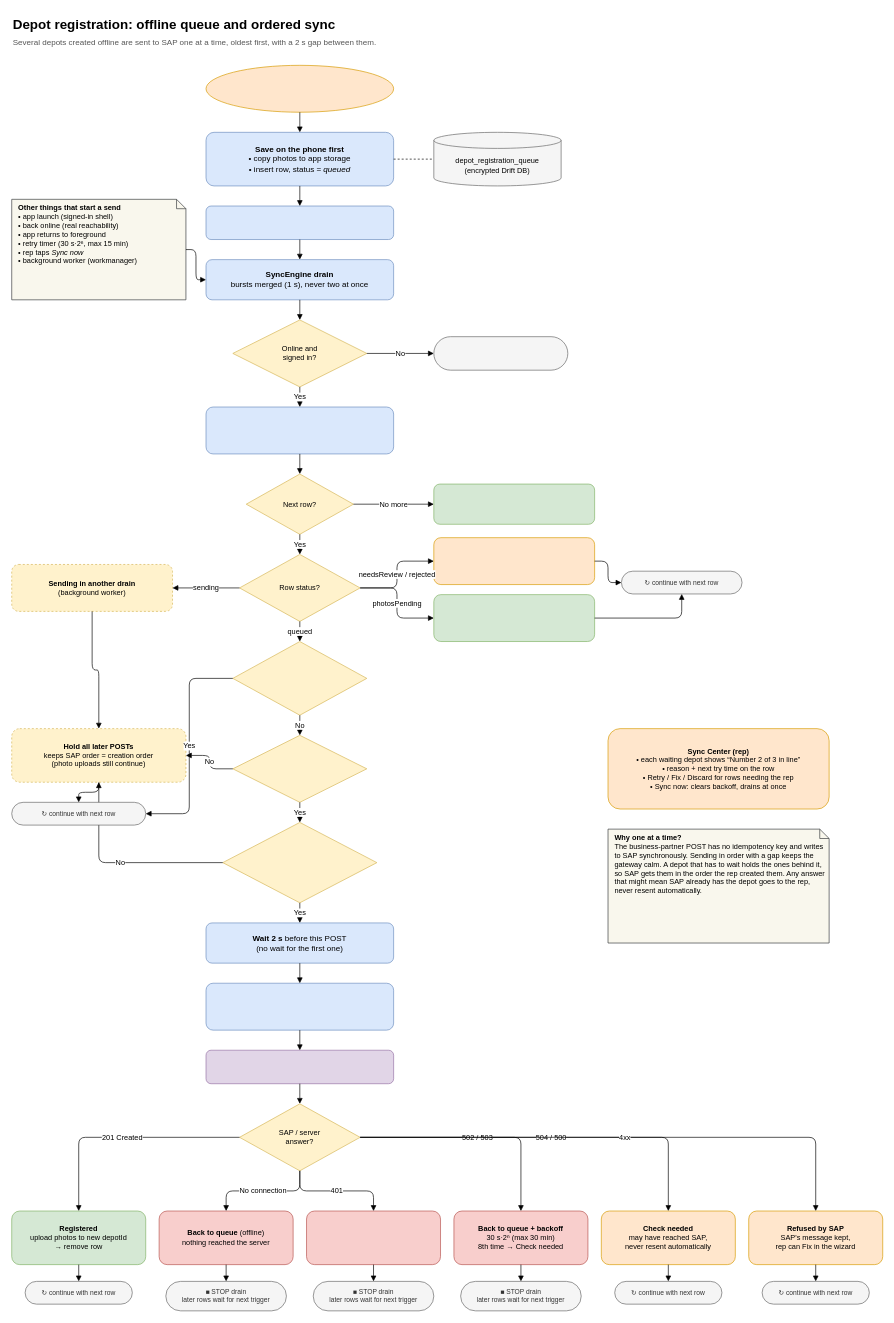
Some shapes in this 894 by 1323 pixel diagram are drawn without their labels. The shapes that lost their labels are listed below. From the top down, each one's centre as x and y in pixels, then its label:
(x=299, y=88): Rep taps Submit on Add Depot (offline or server unreachable)
(x=299, y=222): Wake the sync engine requestSync()
(x=500, y=353): Do nothing now. Wait for the next trigger
(x=299, y=430): Outbox.drain() read queue oldest first (ORDER BY createdAt)
(x=514, y=503): Drain finished work left → engine arms retry timer
(x=514, y=561): Needs review / Refused skip: waits for the rep, does not hold the line
(x=514, y=618): Photos pending upload photos to the depot (safe to repeat)
(x=299, y=678): Is an earlier depot still waiting?
(x=299, y=768): Due now? (backoff time passed)
(x=299, y=862): Enough time for 2 s gap + 75 s request? (background budget)
(x=299, y=1006): Atomic claim queued → sending (only one drain can win)
(x=299, y=1067): POST /api/v1/mobile/depots/business-partner
(x=373, y=1237): Back to queue rep must sign in again
